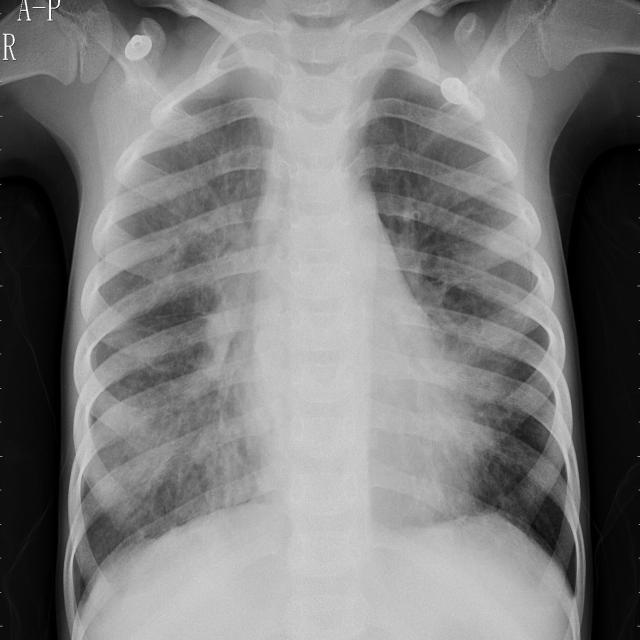low-pneumonia: (410, 260, 512, 452), (172, 171, 248, 386), (157, 363, 251, 522)
